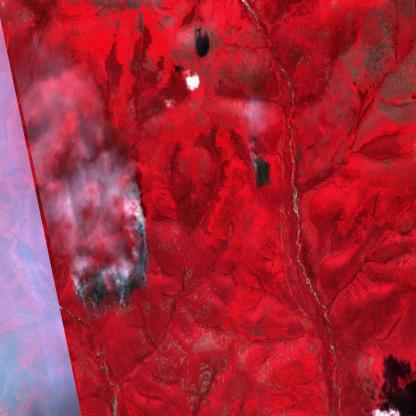fire: (70, 183, 156, 325), (249, 152, 274, 188)
